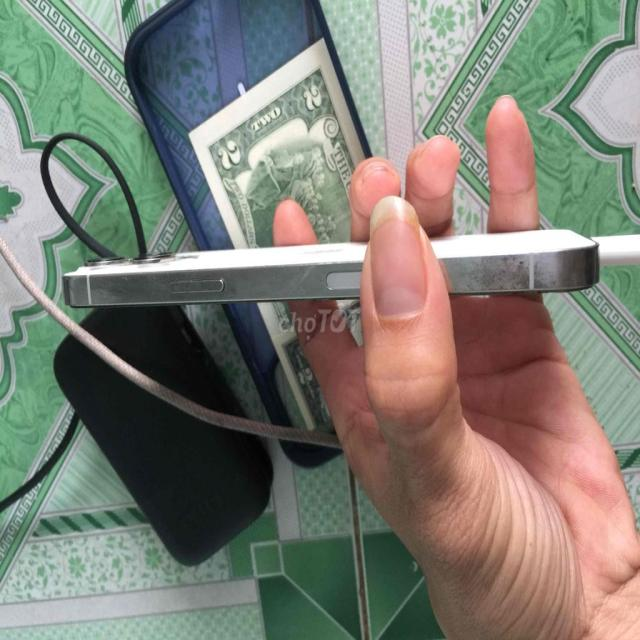gen_12_13: (62, 213, 618, 331)
scratch: (442, 224, 590, 295), (95, 262, 230, 312), (286, 253, 316, 298)
